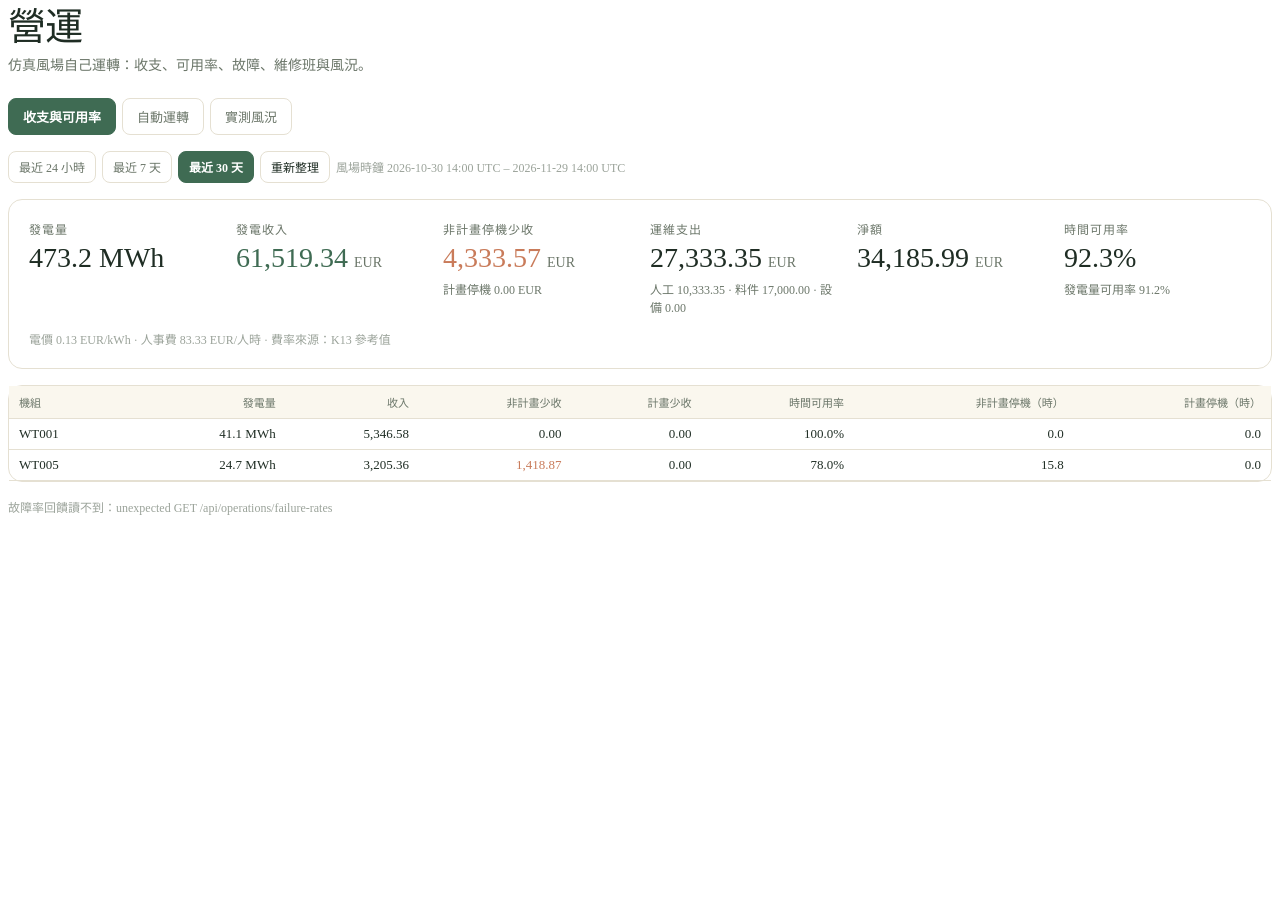
Test: 自動運轉 › 儲存產生器時送完整的設定，畫面沒列的欄位沿用
Click the button "自動運轉" at [163, 116], box [122,98,204,135]
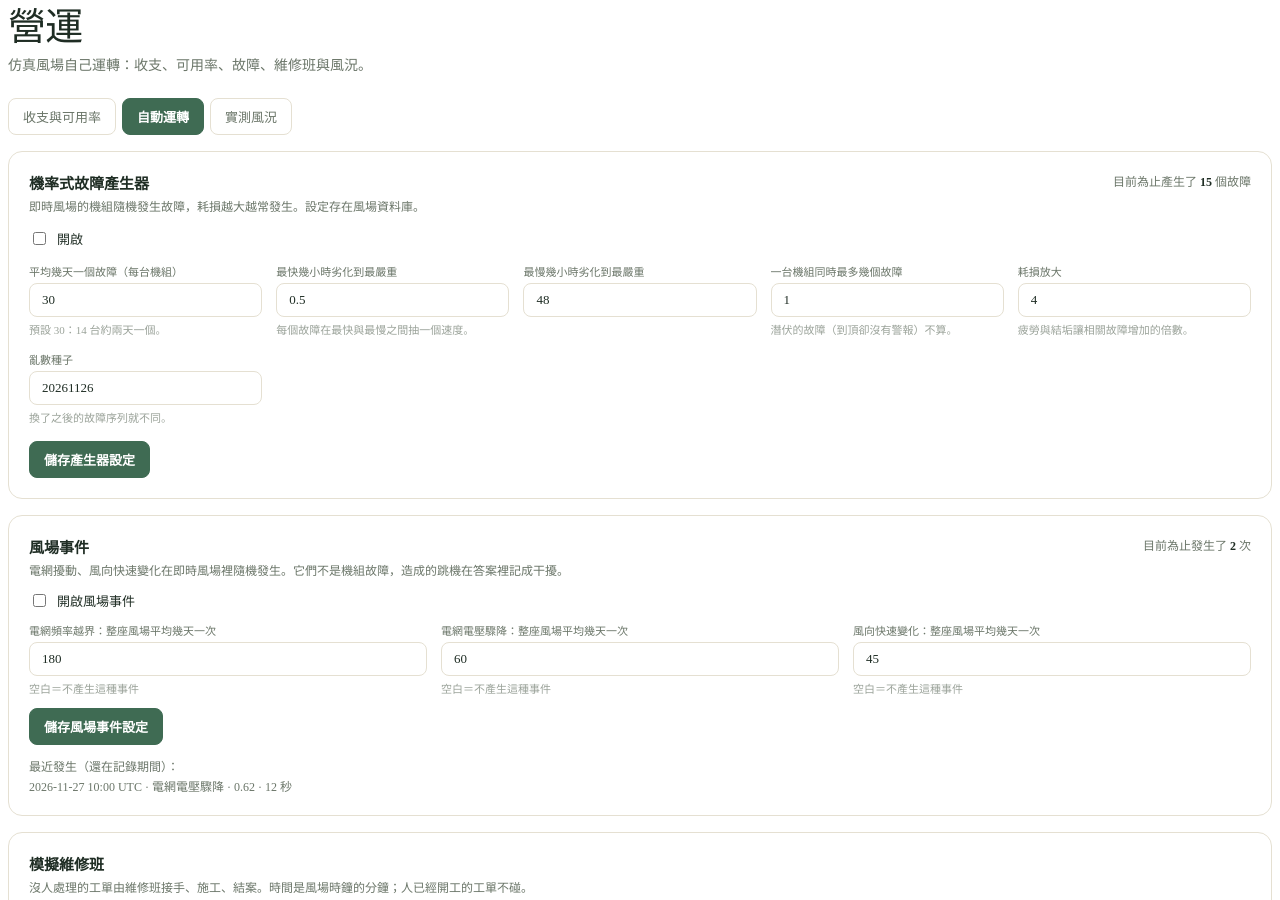
Expected: the number field labelled "平均幾天一個故障（每台機組）" is shown
Expected: the text "15" is shown, [1200,175,1212,189]
Replace the text in the number field labelled "平均幾天一個故障（每台機組）" with "3" at [146, 300], box [29,283,262,317]
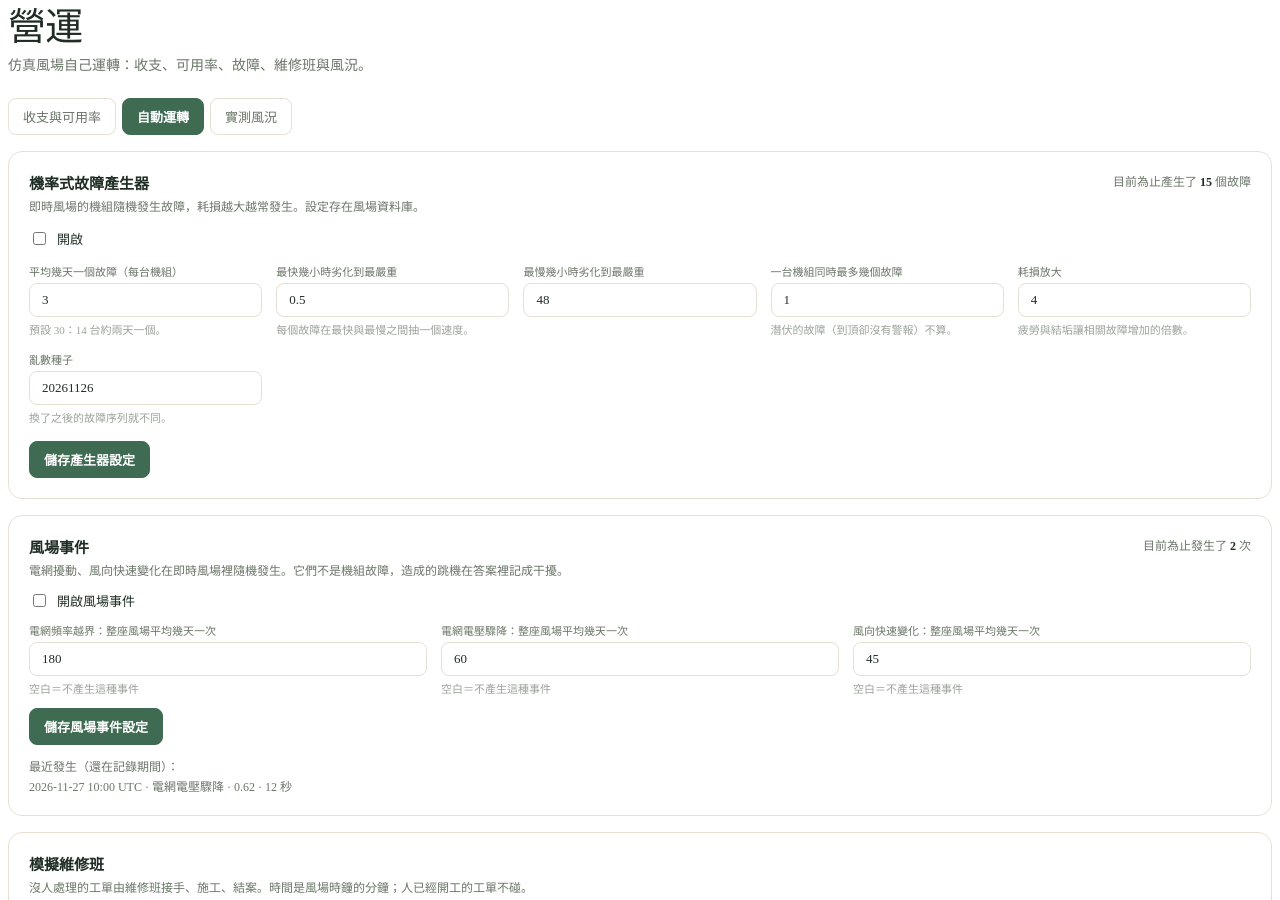
Click the checkbox labelled "開啟" at [40, 238], box [33,232,46,245]
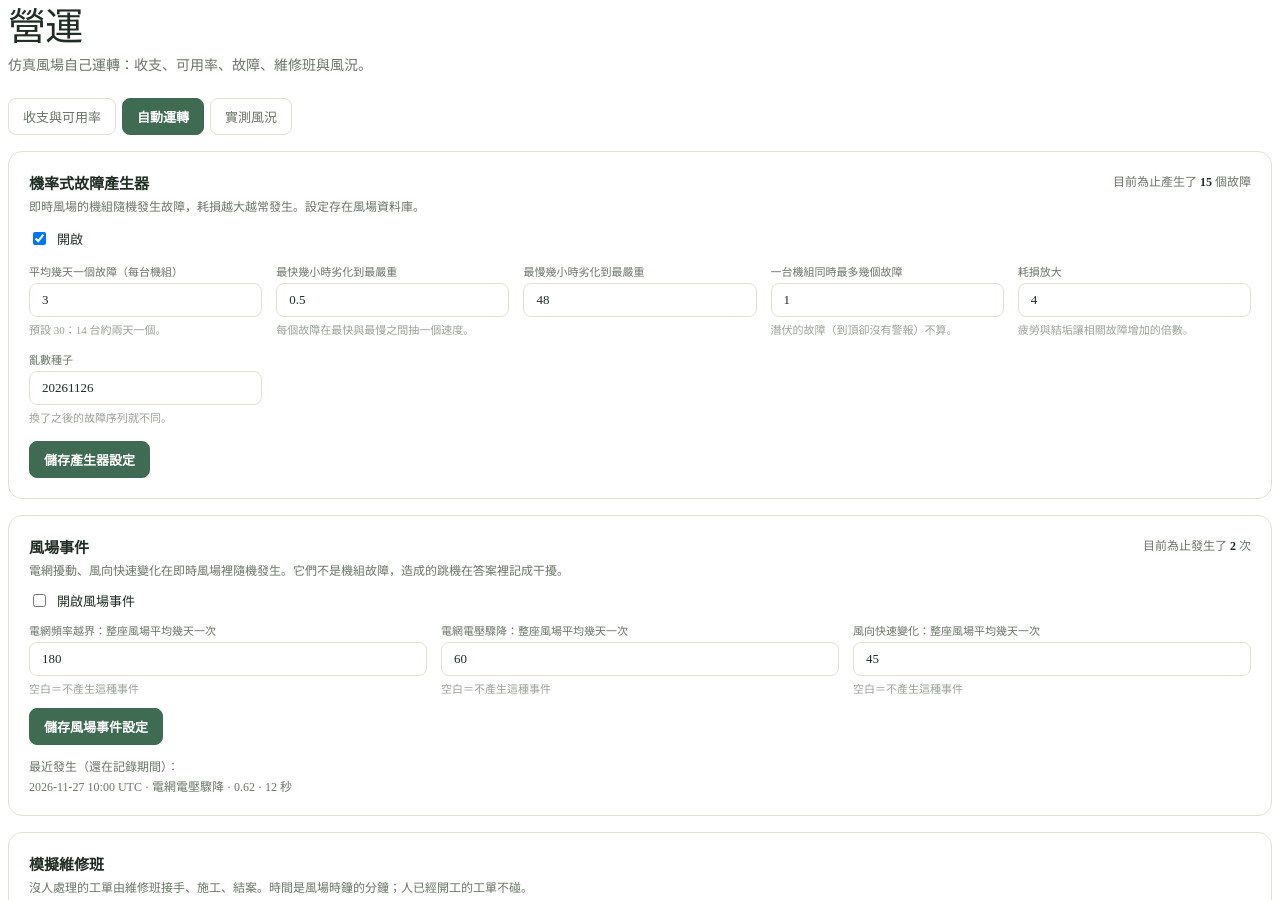
Click the button "儲存產生器設定" at [90, 459], box [29,441,150,478]
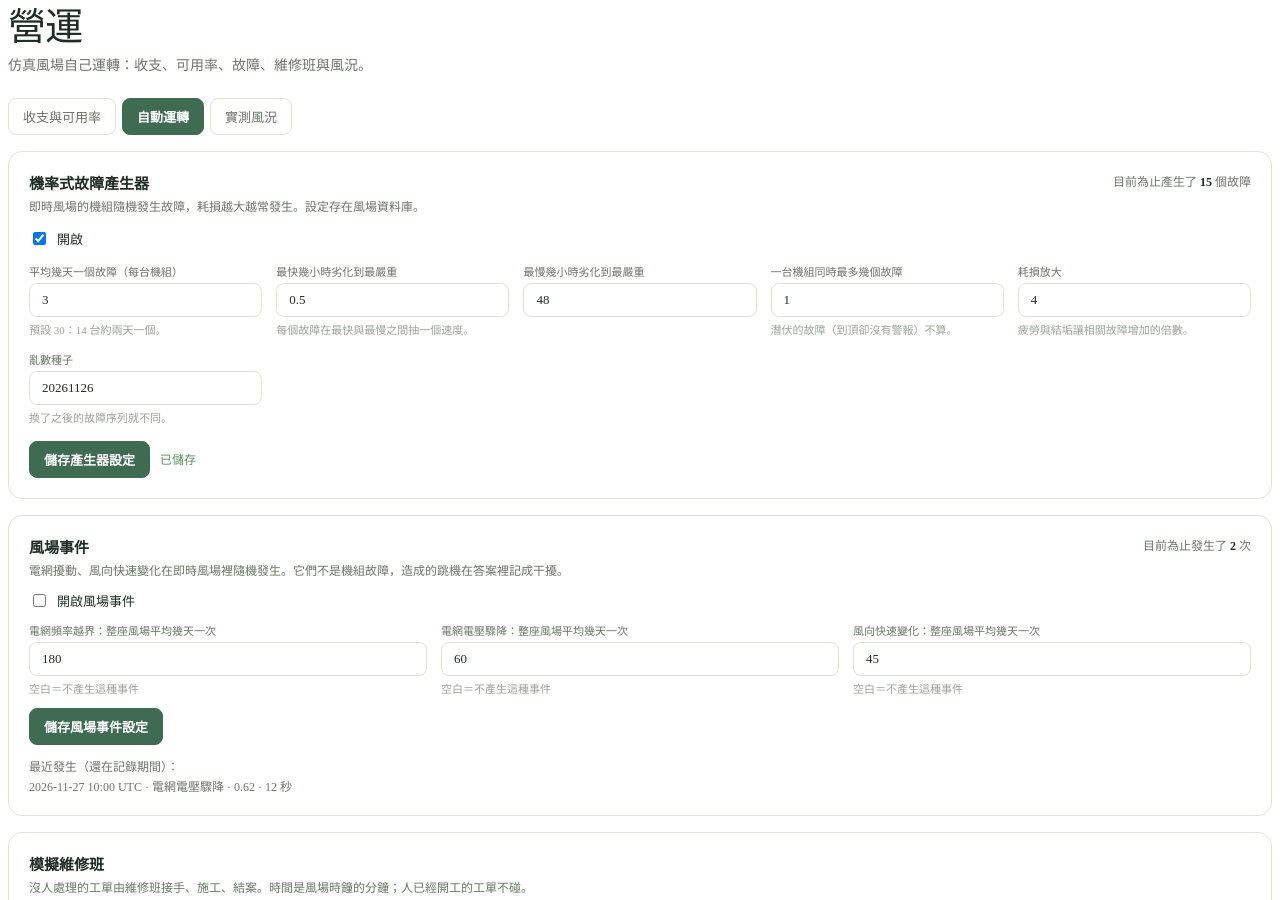
Expected: the text "已儲存" is shown, [160,450,196,468]
